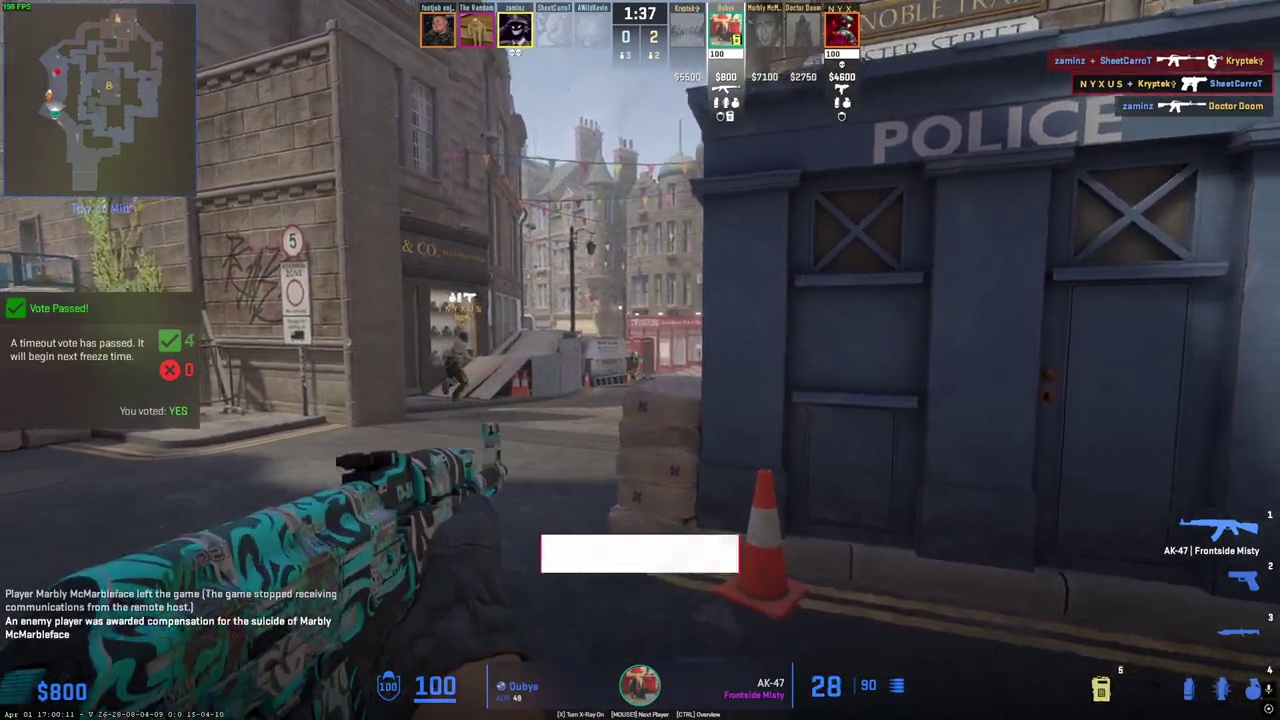Terrorist: (443, 331, 473, 401)
